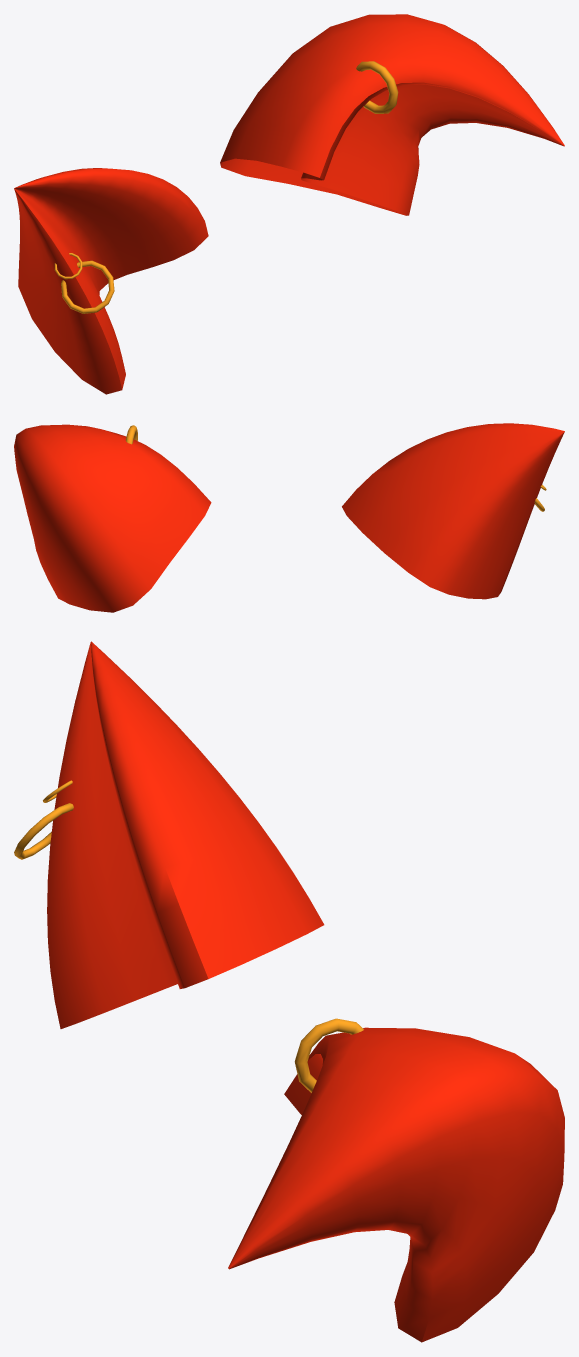
The picture shows the model from 3 angles, top to bottom: view 1: azimuth 30°, elevation 25°; view 2: azimuth 150°, elevation 25°; view 3: azimuth 270°, elevation 25°; orthographic projection. The views are drawn at different scales.
Parts seen in each view (by area): view 1: 365, ear_rings.001; view 2: 365, ear_rings.001; view 3: 365, ear_rings.001.
Boxes of the visible parts, bbox=[...] form: 365: bbox=[14, 14, 564, 394]; ear_rings.001: bbox=[54, 61, 398, 313]; 365: bbox=[14, 423, 564, 612]; ear_rings.001: bbox=[125, 425, 546, 511]; 365: bbox=[47, 641, 564, 1342]; ear_rings.001: bbox=[14, 780, 363, 1092].
Bounding box in the file's own units: 97.14 × 53.09 × 36.4.
